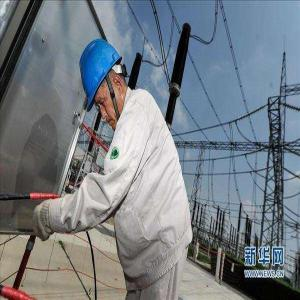blue: (79, 39, 129, 131)
